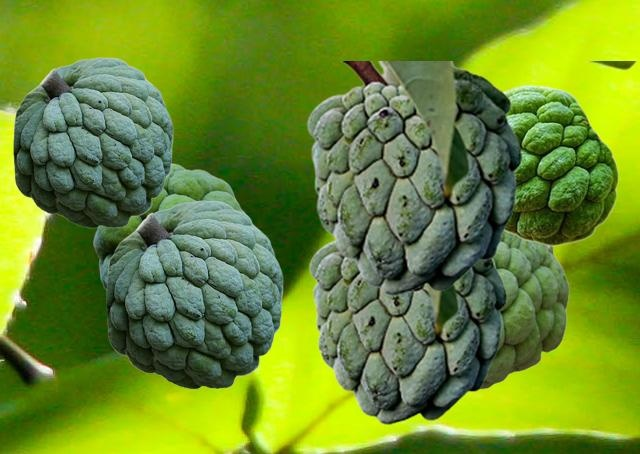atis: (306, 61, 635, 295), (308, 215, 611, 424), (106, 200, 282, 388), (13, 57, 172, 227), (93, 161, 249, 290), (504, 84, 618, 245), (481, 233, 568, 389)
